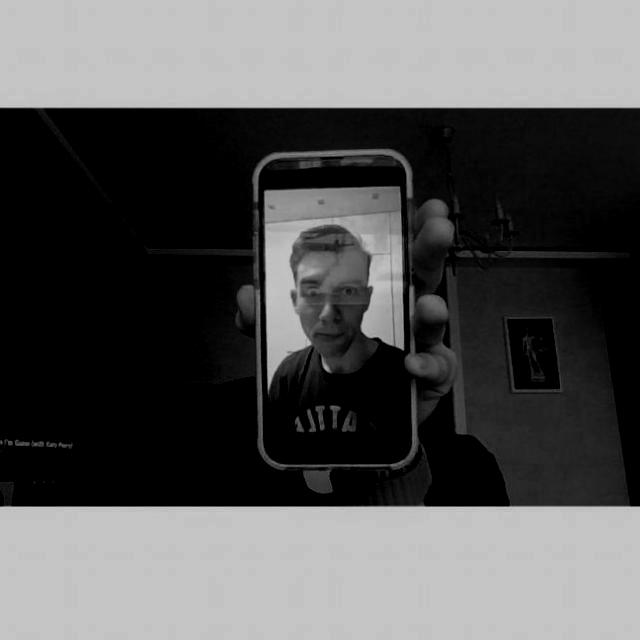fake: (244, 144, 436, 484)
